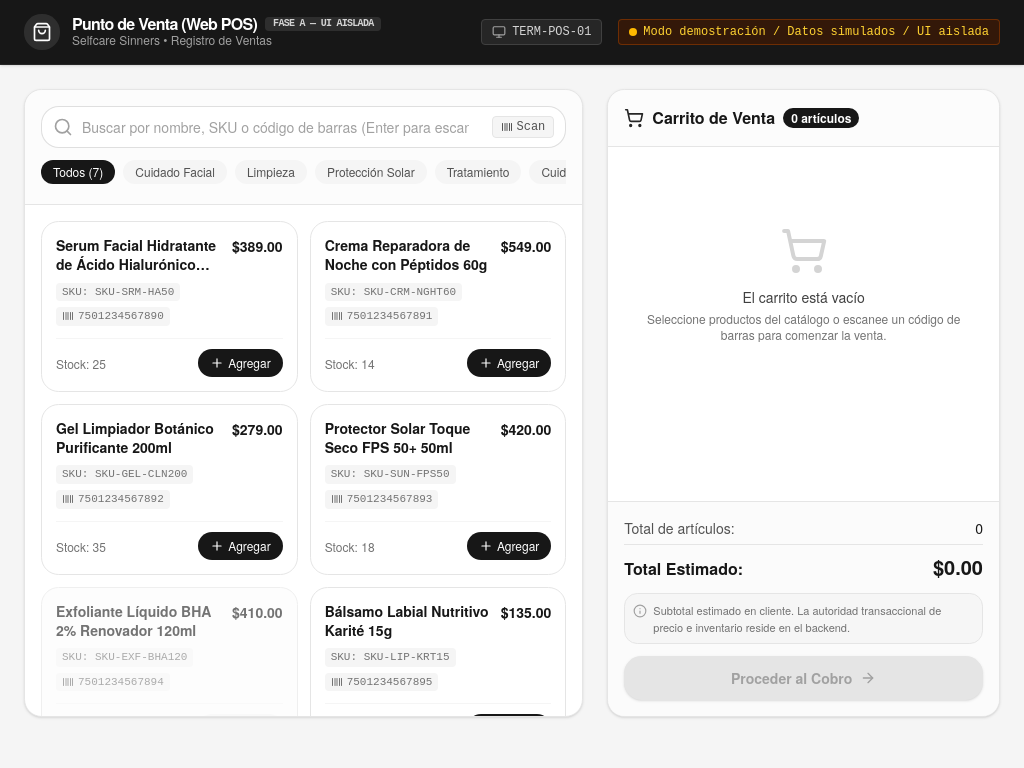
CCP-43: Web POS Register UI (Isolated Wave - FASE A) › 5. Idempotency & Retry Stability › preserves the exact same clientRequestId during commercial retry of a failed attempt
Click the button "Agregar" next to "25": coordinates (240, 363) x1=198 y1=349 x2=283 y2=377
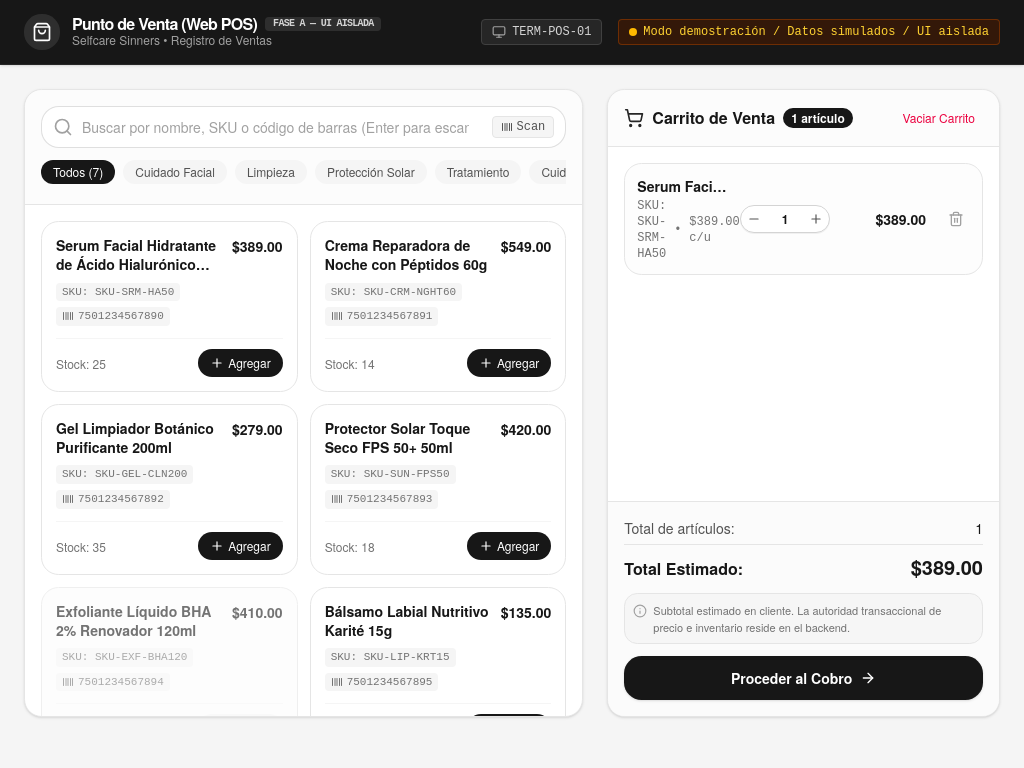
Click the button with test id "pos-proceed-to-tender-btn": coordinates (804, 678) x1=624 y1=656 x2=983 y2=700
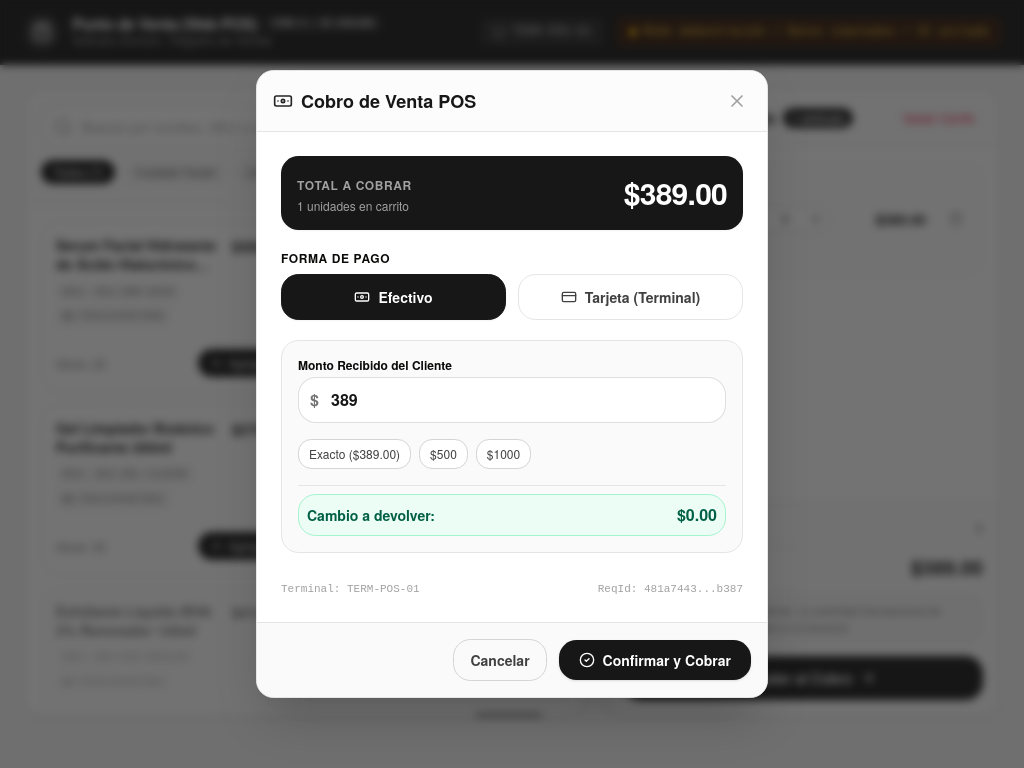
Note: Submit attempt 1
Click the button with test id "pos-tender-submit-btn": coordinates (655, 660) x1=559 y1=640 x2=751 y2=680
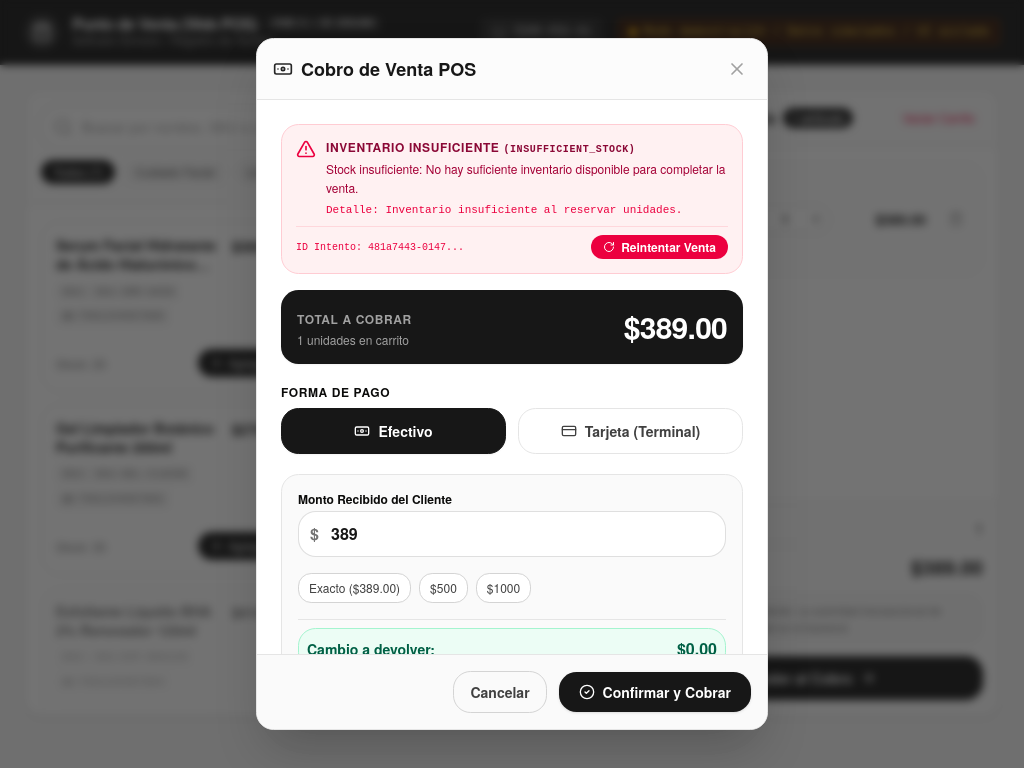
Check: the element with test id "pos-tender-error-banner" is shown, box x1=281 y1=124 x2=743 y2=274
Check: the element with test id "pos-tender-error-banner" shows "Inventario Insuficiente", box x1=326 y1=138 x2=500 y2=156
Note: Click Reintentar Venta
Click the button with test id "pos-tender-retry-btn": coordinates (660, 247) x1=591 y1=235 x2=728 y2=259
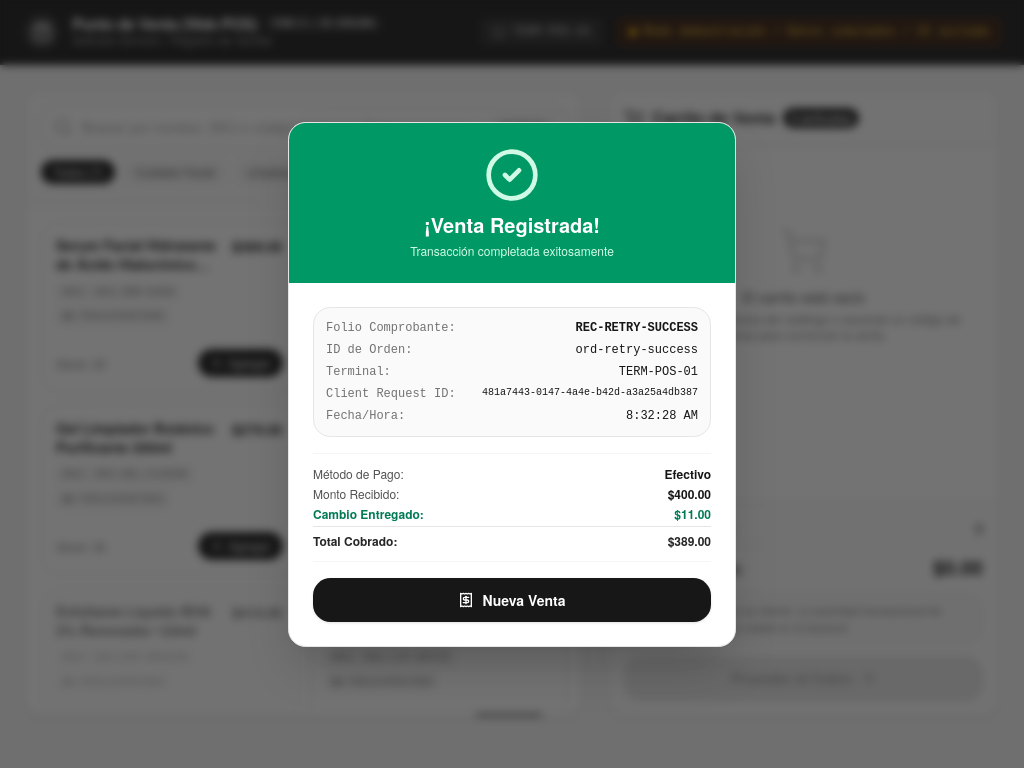
Check: the dialog with test id "pos-receipt-modal" is shown, box x1=288 y1=122 x2=736 y2=646
Check: the text with test id "receipt-sale-id" reads "REC-RETRY-SUCCESS", box x1=576 y1=320 x2=698 y2=334
